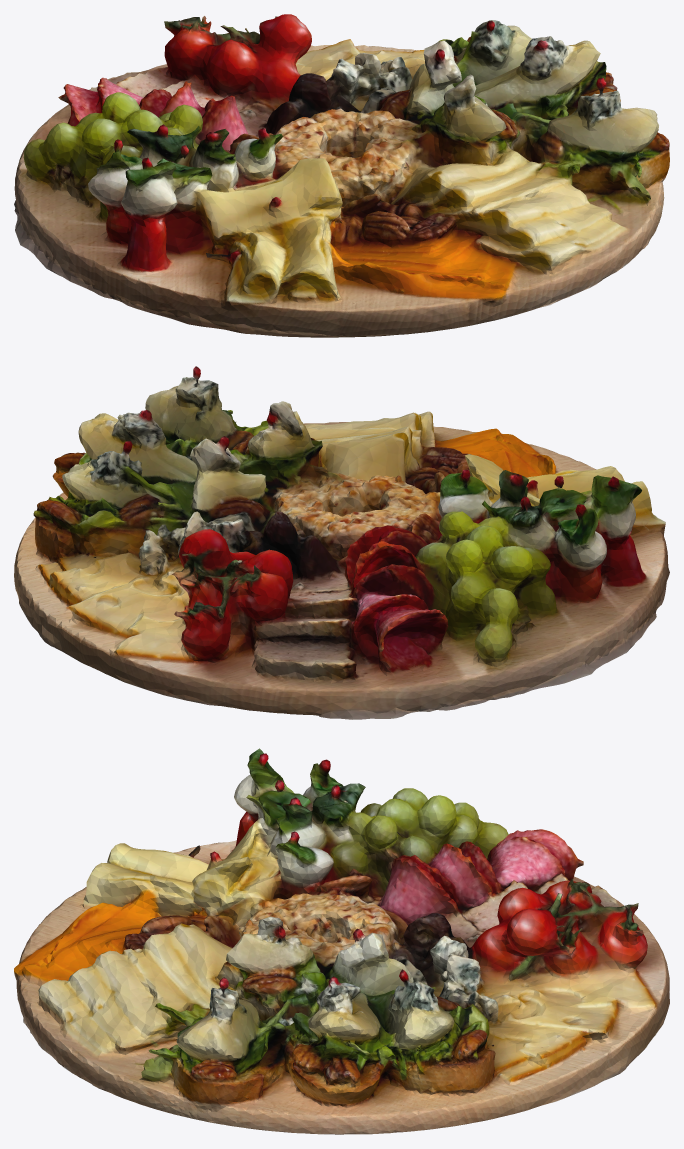
File: snacks.glb
The picture shows the model from 3 angles, top to bottom: view 1: azimuth 30°, elevation 25°; view 2: azimuth 150°, elevation 25°; view 3: azimuth 270°, elevation 25°; orthographic projection.
Size of the model in its own units: 0.3974 by 0.0862 by 0.3944.
1 material, 1 textured.
